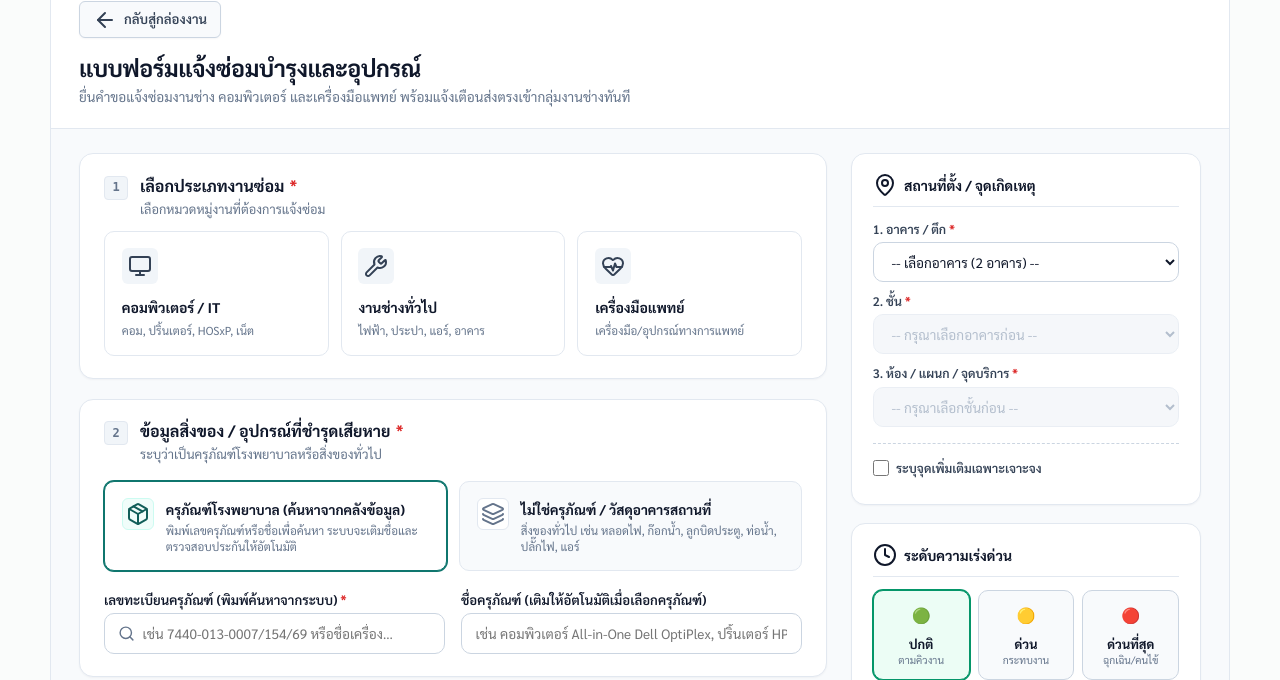
Test: RepairFormClient Component (Hallmark Anti-AI-Slop Redesign) › allows toggling between Equipment and Non-Equipment with quick tags
What coordinates should you click on to do the following:
click the radio button labelled "ไม่ใช่ครุภัณฑ์"
I would click on:
 (630, 526)
Its box is [459, 481, 802, 571].
(page scrolled)
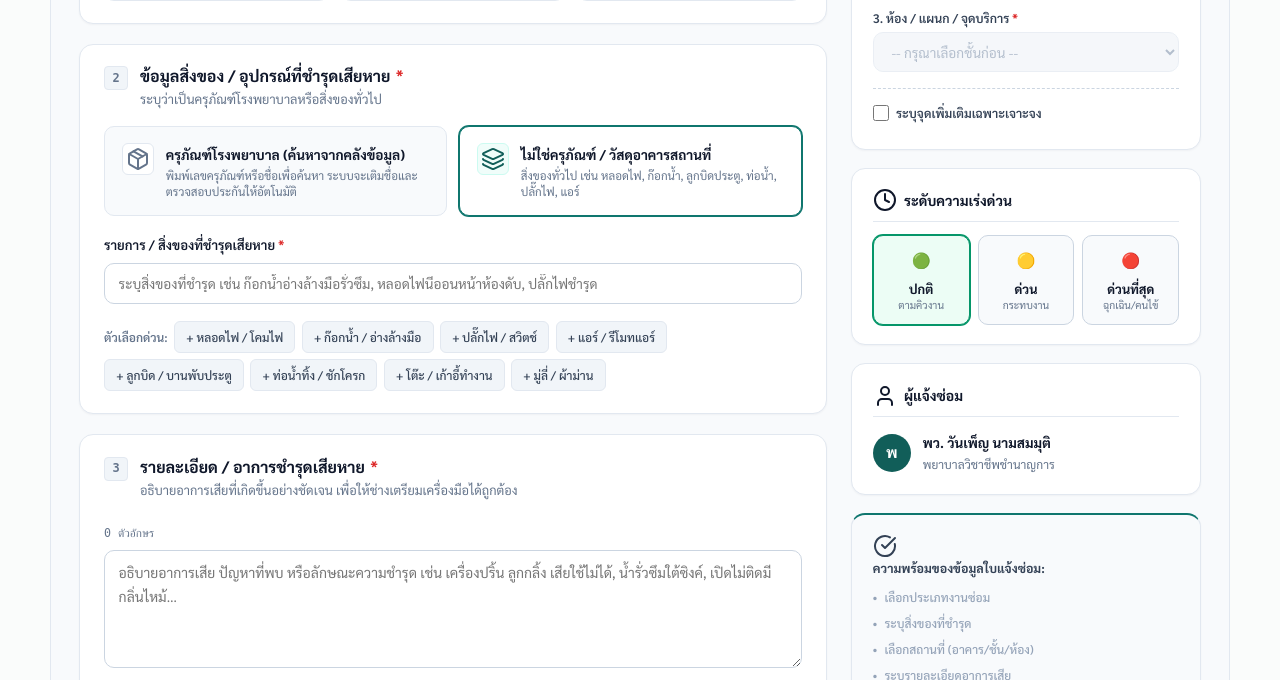
Expected: the text "รายการ / สิ่งของที่ชำรุดเสียหาย" is shown, [104, 236, 278, 252]
Expected: the text "ตัวเลือกด่วน:" is shown, [104, 327, 168, 347]
What coordinates should you click on to do the following:
click the button "+ หลอดไฟ / โคมไฟ"
I would click on:
 (235, 337)
Its box is [174, 321, 295, 353].
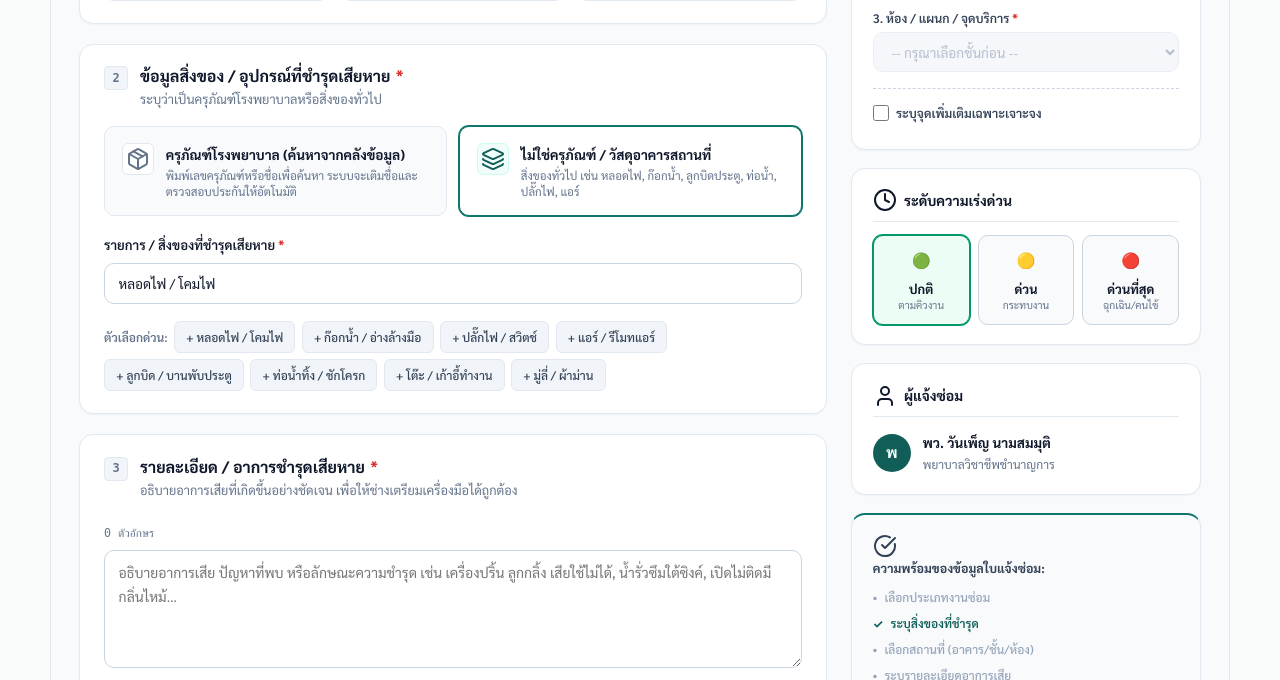
Expected: the field with placeholder "ระบุสิ่งของที่ชำรุด เช่น" holds "หลอดไฟ / โคมไฟ", [104, 263, 802, 304]
